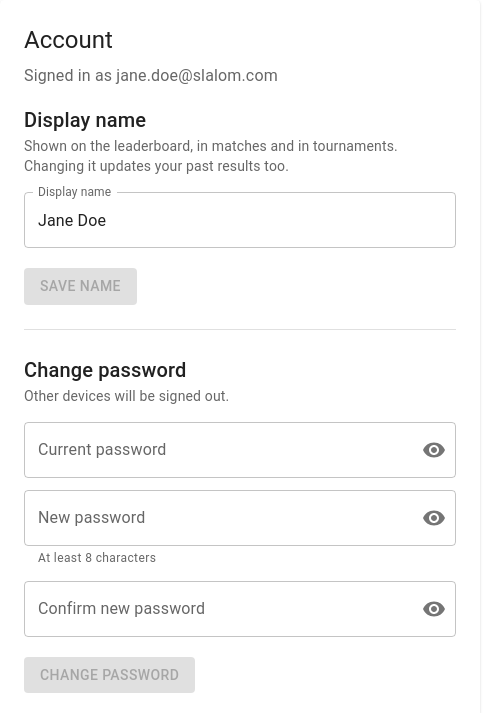
Test case: AccountPage display name › shows the server error and does not update the user
This screenshot has width=498, height=713.
Replace the text in the field labelled "Display name" with "Janie". click: x=240, y=220
box: top-left (24, 192), bottom-right (456, 248)
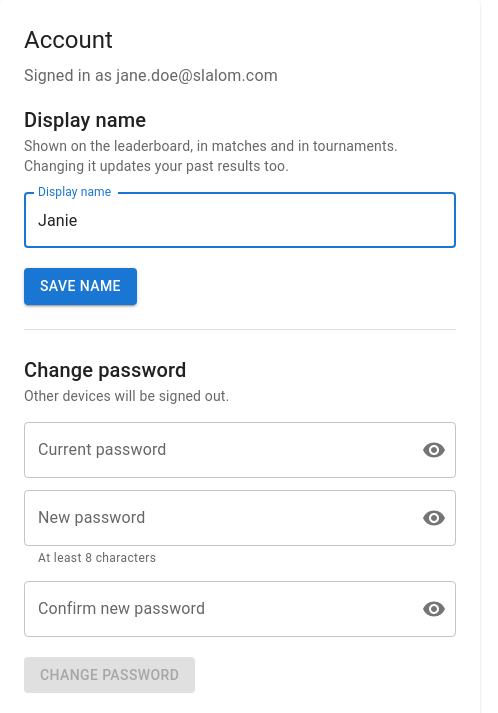
Click the button "Save name". click: x=80, y=287
box: top-left (24, 268), bottom-right (137, 305)
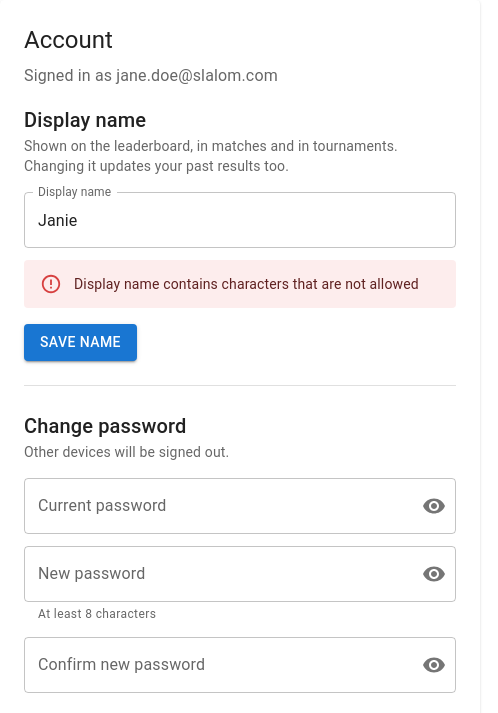
Now the text "Display name contains characters that are not allowed" is shown, box top-left (74, 276), bottom-right (419, 292)
